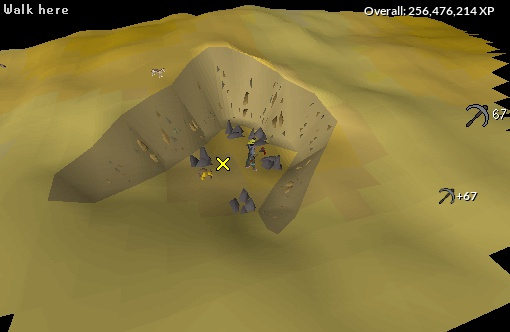depleted: (224, 186, 263, 217), (219, 116, 250, 144), (186, 145, 219, 170), (259, 152, 288, 175)
